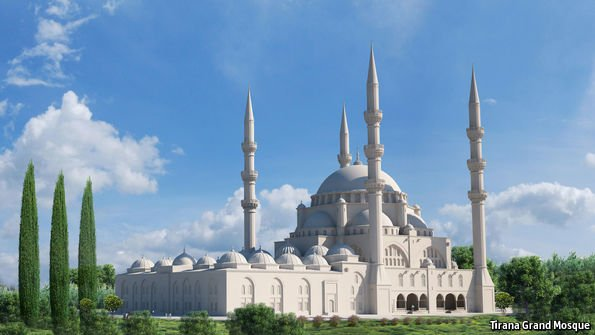Mosque: (89, 41, 506, 315)
